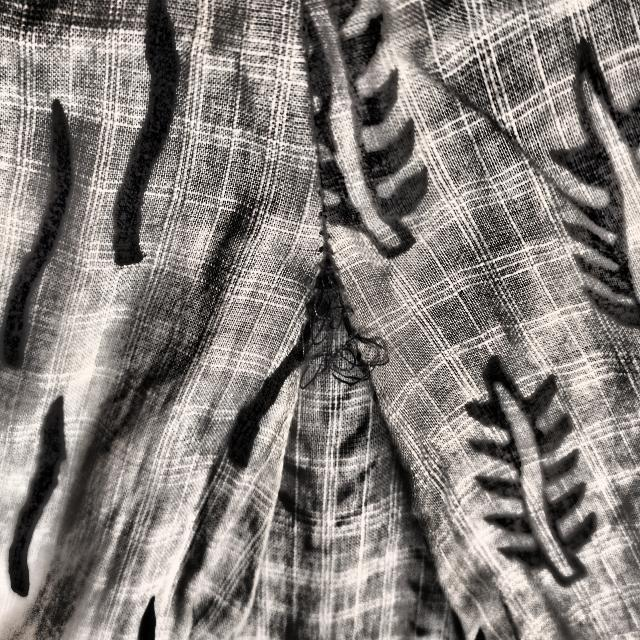gray stitch: (292, 192, 395, 448)
